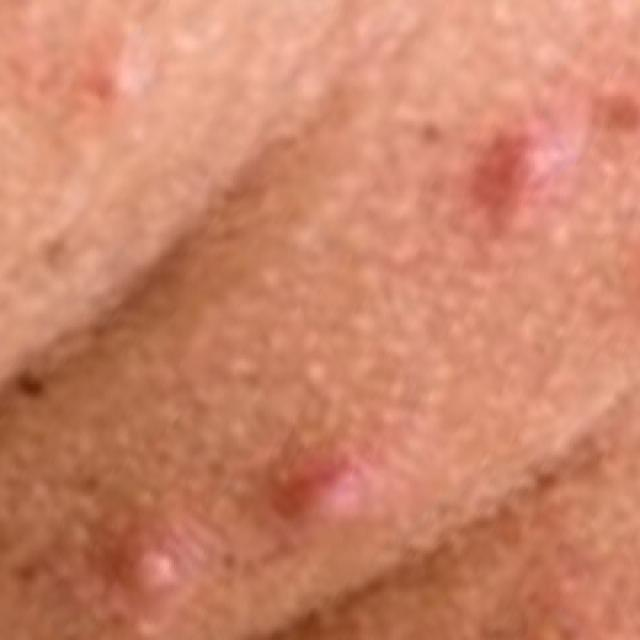acne: (446, 69, 636, 249), (30, 493, 231, 640), (260, 412, 400, 572), (58, 22, 188, 116)
